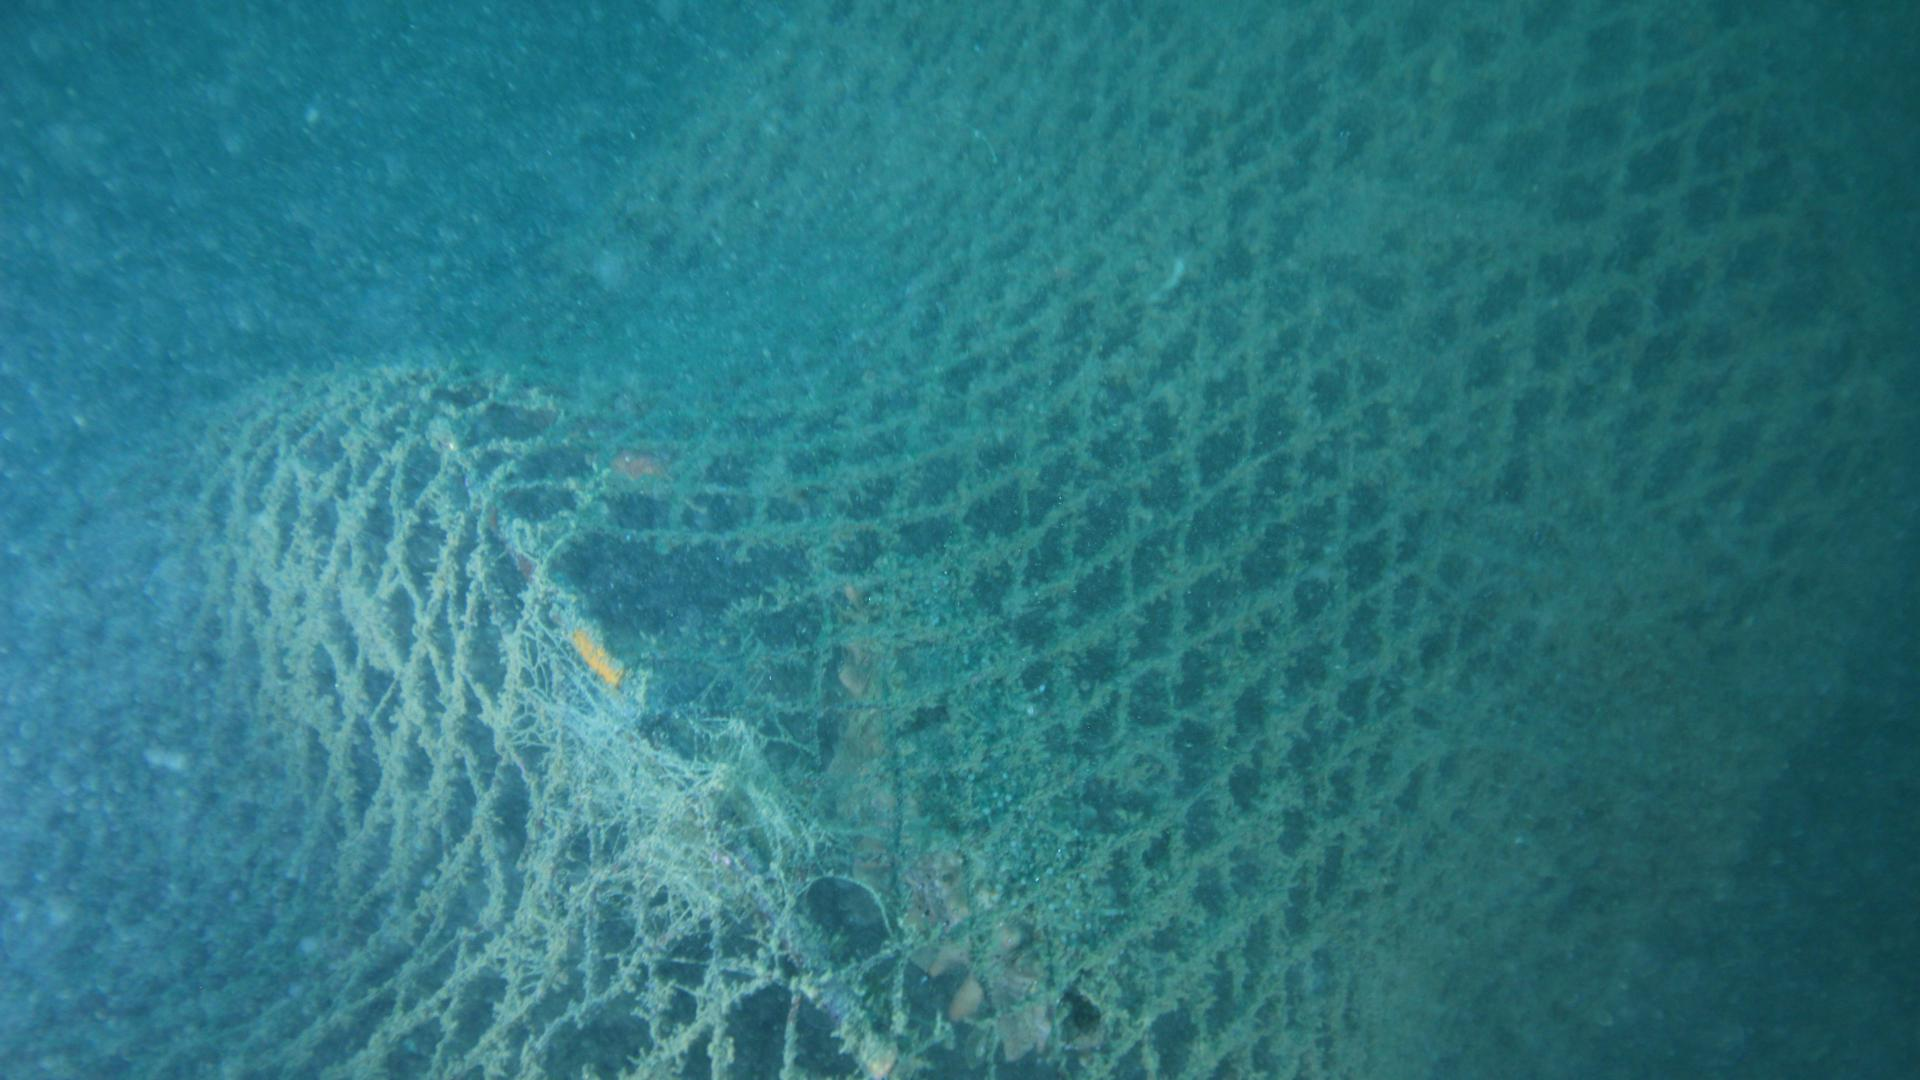spring fish trap: (0, 1, 1905, 1080)
